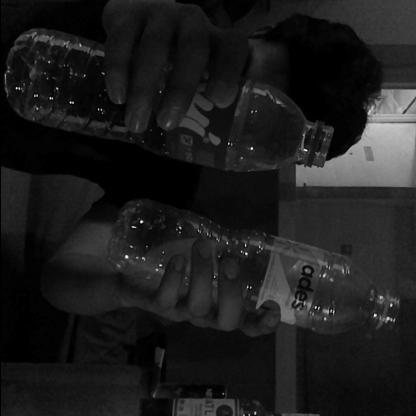plastic_bottles: (0, 25, 336, 175), (103, 193, 400, 337)
